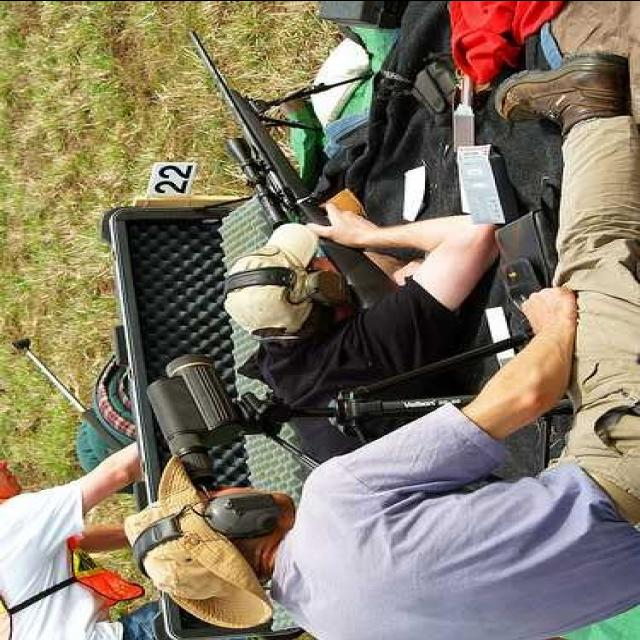heavyweapon: (153, 17, 429, 318)
